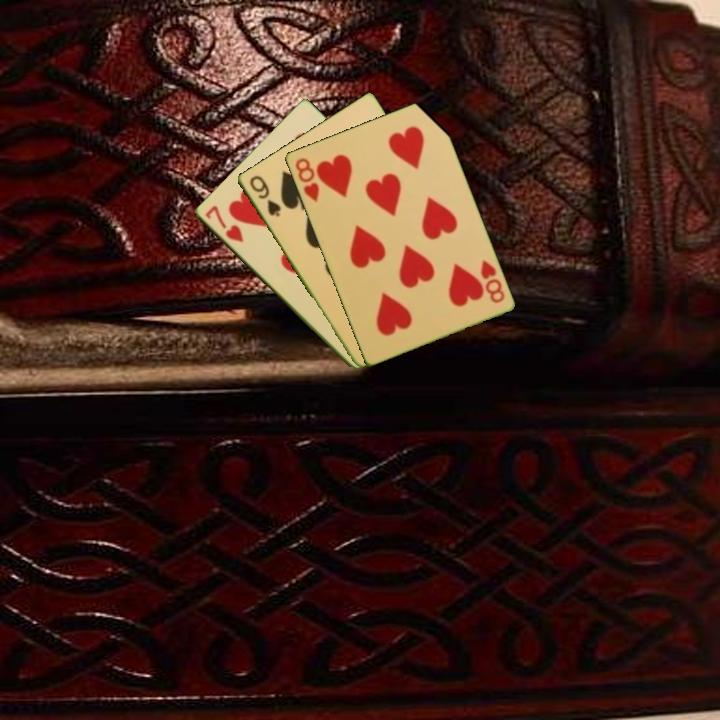7h: (201, 202, 246, 246)
8h: (291, 154, 322, 205), (477, 256, 507, 306)
9s: (245, 172, 284, 220)
